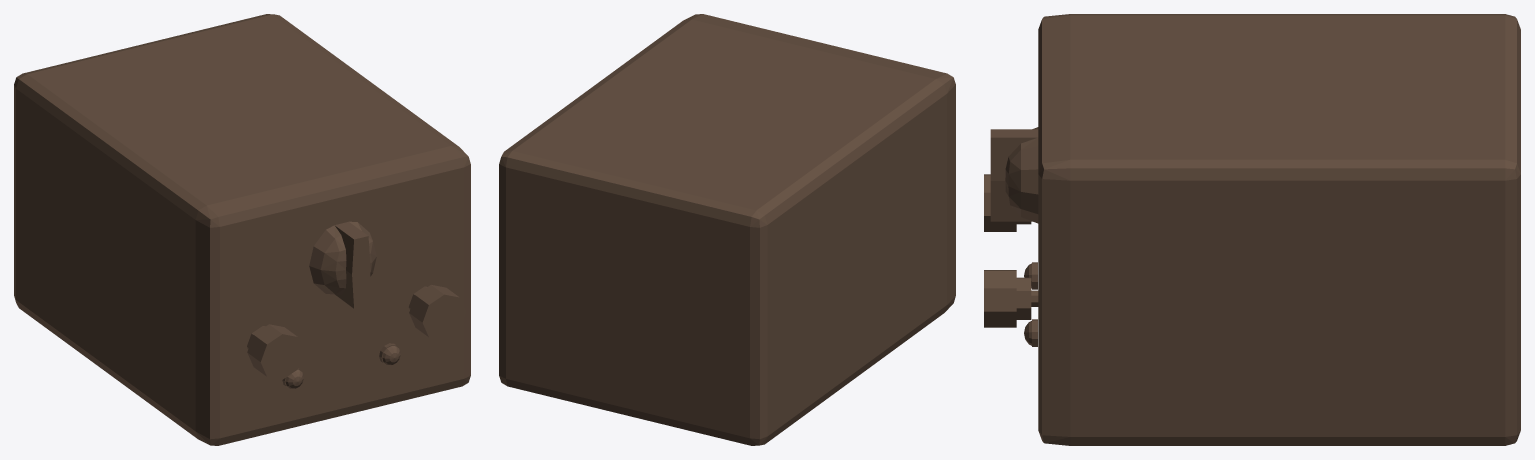
The model's file is transmitter.obj.
The picture shows the model from 3 angles, left to right: view 1: azimuth 30°, elevation 25°; view 2: azimuth 150°, elevation 25°; view 3: azimuth 270°, elevation 25°; orthographic projection. The views are drawn at different scales.
Visible parts, largest first — view 1: product-d8ae498d-e979-4296-9a64-f85aa1060eef-body, product-606d83f5-81b2-41dd-8668-be2b39c96aed-body, product-8a7e30ce-33e2-4eb8-975f-5a3640439c5f-body, product-165886eb-5732-4a06-8cc5-a07290a49dfc-body; view 2: product-d8ae498d-e979-4296-9a64-f85aa1060eef-body; view 3: product-d8ae498d-e979-4296-9a64-f85aa1060eef-body, product-606d83f5-81b2-41dd-8668-be2b39c96aed-body, product-8a7e30ce-33e2-4eb8-975f-5a3640439c5f-body, product-165886eb-5732-4a06-8cc5-a07290a49dfc-body.
Boxes of the visible parts, x1,y1,x2,y2 form: product-d8ae498d-e979-4296-9a64-f85aa1060eef-body: (14, 14, 470, 445); product-606d83f5-81b2-41dd-8668-be2b39c96aed-body: (309, 221, 376, 308); product-8a7e30ce-33e2-4eb8-975f-5a3640439c5f-body: (408, 285, 465, 340); product-165886eb-5732-4a06-8cc5-a07290a49dfc-body: (247, 324, 304, 379); product-d8ae498d-e979-4296-9a64-f85aa1060eef-body: (499, 14, 955, 445); product-d8ae498d-e979-4296-9a64-f85aa1060eef-body: (1024, 14, 1520, 445); product-606d83f5-81b2-41dd-8668-be2b39c96aed-body: (990, 127, 1038, 223); product-8a7e30ce-33e2-4eb8-975f-5a3640439c5f-body: (984, 270, 1038, 327); product-165886eb-5732-4a06-8cc5-a07290a49dfc-body: (984, 174, 1031, 231).
Size of the model in its own units: 0.095 by 0.0803 by 0.1367.
